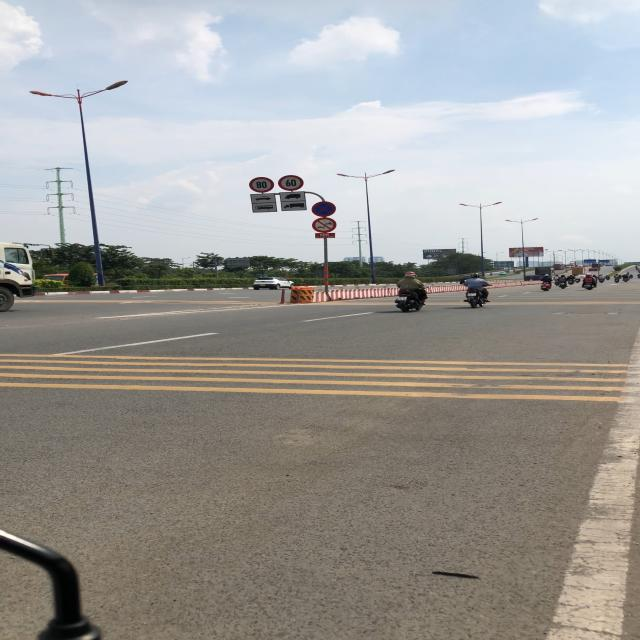Bien bao cam dung xe va do xe: (310, 198, 340, 218)
Bien bao toc do toi da cho phep: (276, 173, 307, 192), (247, 174, 274, 193)
